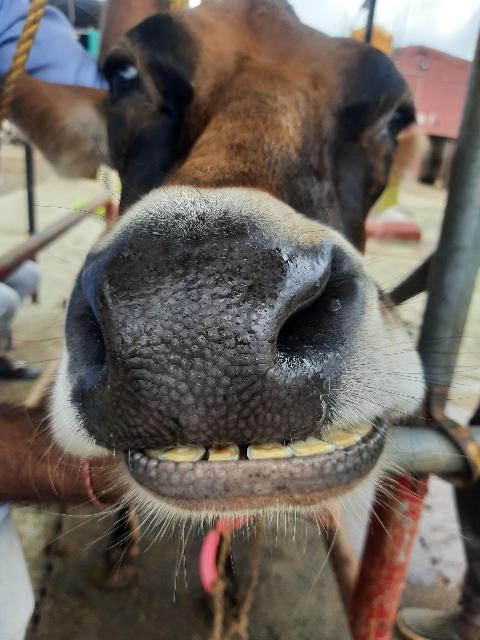Muzzle: (103, 247, 293, 443)
